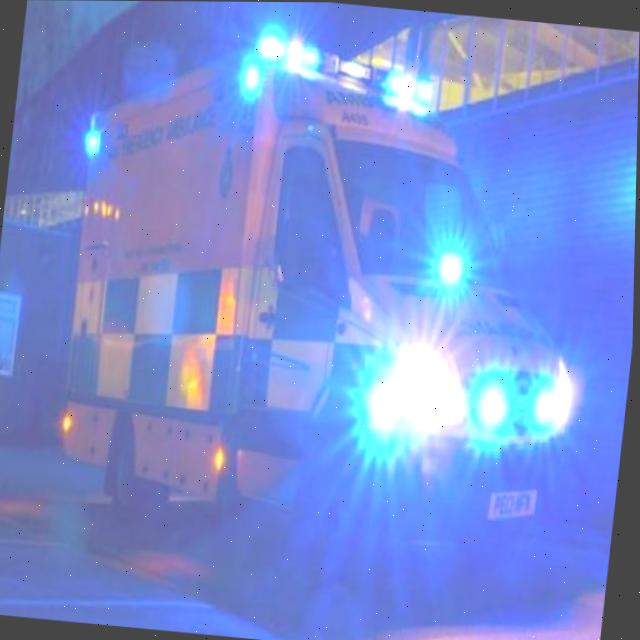emergency: (43, 19, 619, 596)
